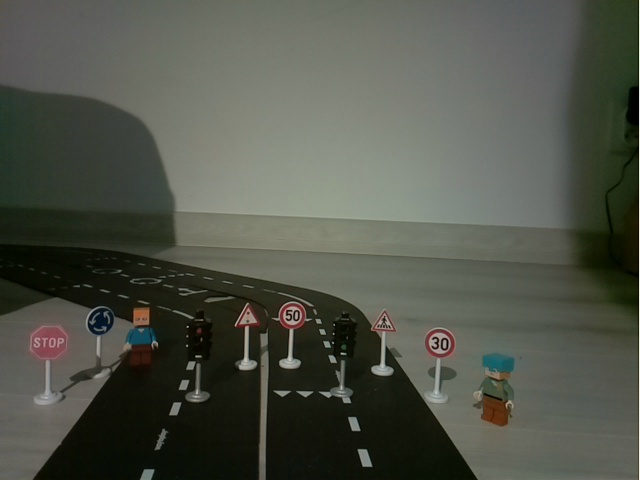green light: (328, 311, 358, 399)
limit 30: (422, 324, 457, 409)
limit 50: (273, 300, 309, 372)
pedestrian sign: (369, 307, 398, 378)
person: (123, 305, 160, 369)
red light: (183, 308, 215, 408)
round: (82, 304, 115, 380)
second person: (465, 346, 523, 437)
stop: (26, 323, 70, 408)
traffic light sign: (230, 299, 260, 374)
